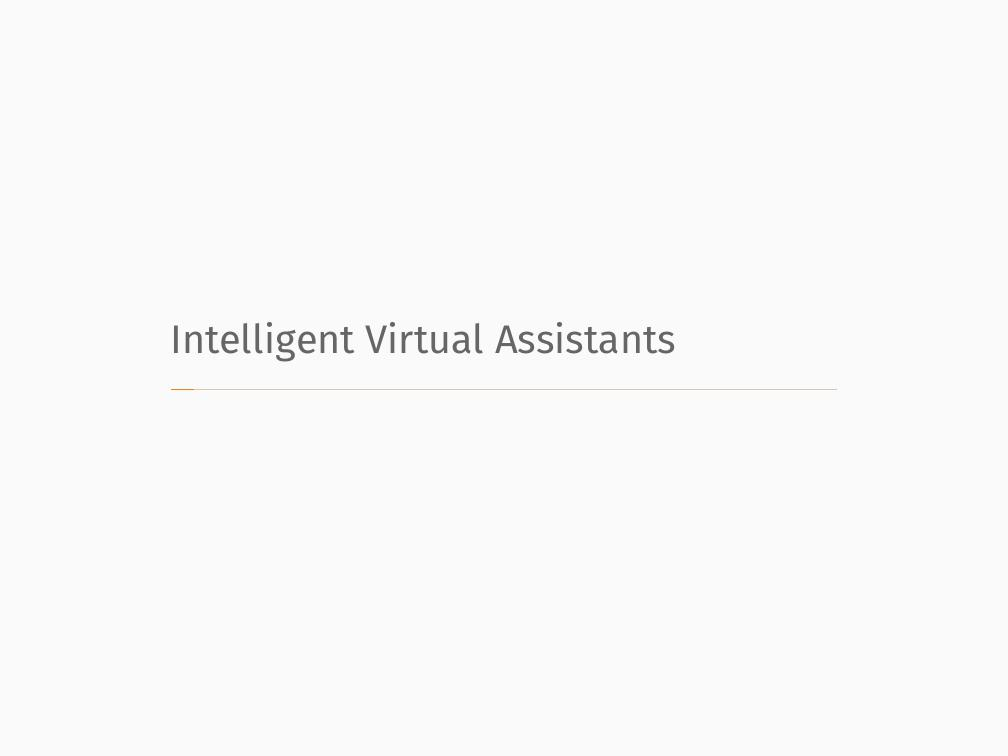Title: (161, 318, 682, 369)
